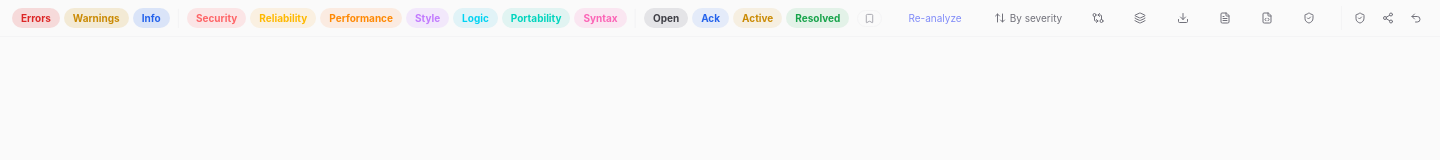
FindingsToolbar popover dismissal (U1.5) › closes the undo popover on Escape
Click the button named "undo a fix" at (1416, 18), box [1404,8,1428,28]
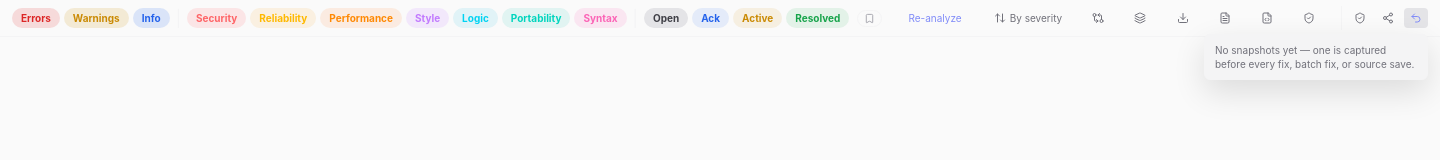
Check: the text "No snapshots yet" is shown, box [1215,44,1414,70]
Press Escape
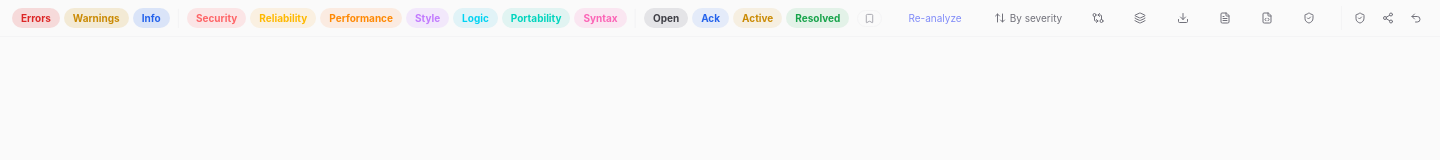
Check: the text "No snapshots yet" is gone
